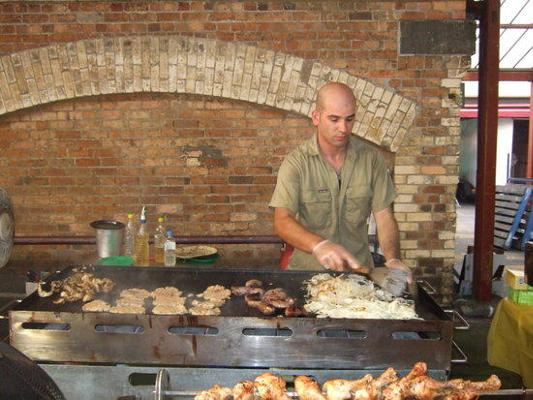person: (273, 81, 410, 282)
